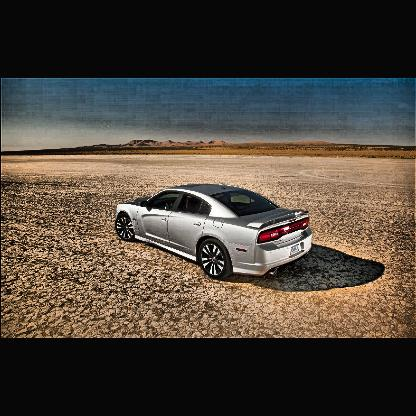Dodge Charger Sedan 2012: (112, 183, 314, 282)
